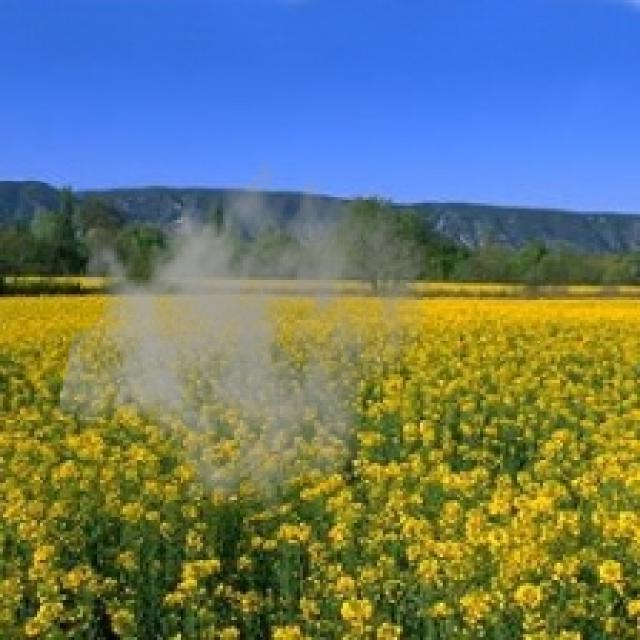smoke: (54, 140, 434, 523)
